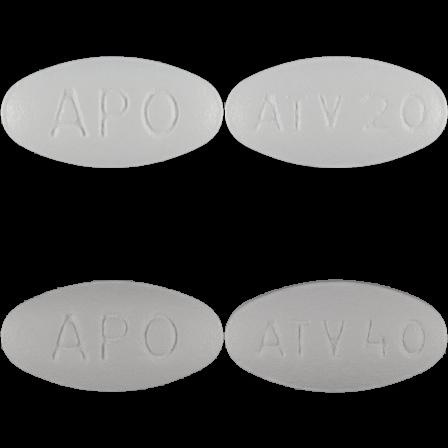63187-108: (0, 0, 224, 224)
